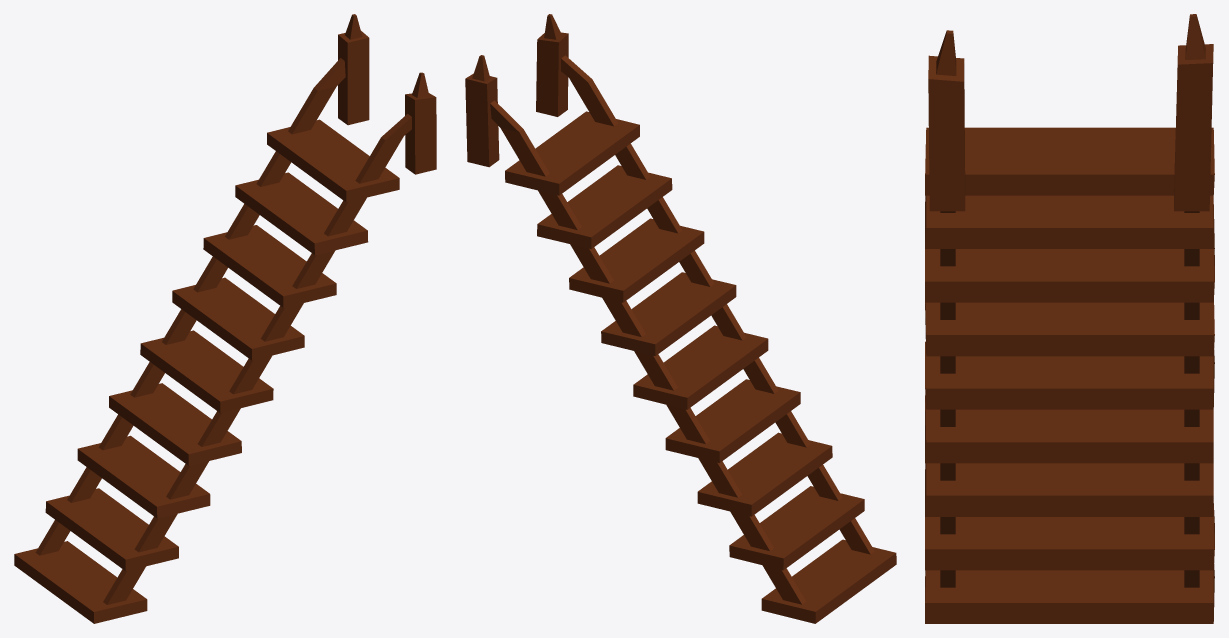
The model's file is LadderAtajo.fbx.
The picture shows the model from 3 angles, left to right: view 1: azimuth 30°, elevation 25°; view 2: azimuth 150°, elevation 25°; view 3: azimuth 270°, elevation 25°; orthographic projection. The views are drawn at different scales.
Visible parts, largest first — view 1: Ladder; view 2: Ladder; view 3: Ladder.
Boxes of the visible parts, left/top/right/bottom form: Ladder: left=14, top=14, right=436, bottom=623; Ladder: left=465, top=14, right=896, bottom=623; Ladder: left=925, top=14, right=1214, bottom=623.
Bounding box in the file's own units: 191 × 251 × 76.86.
